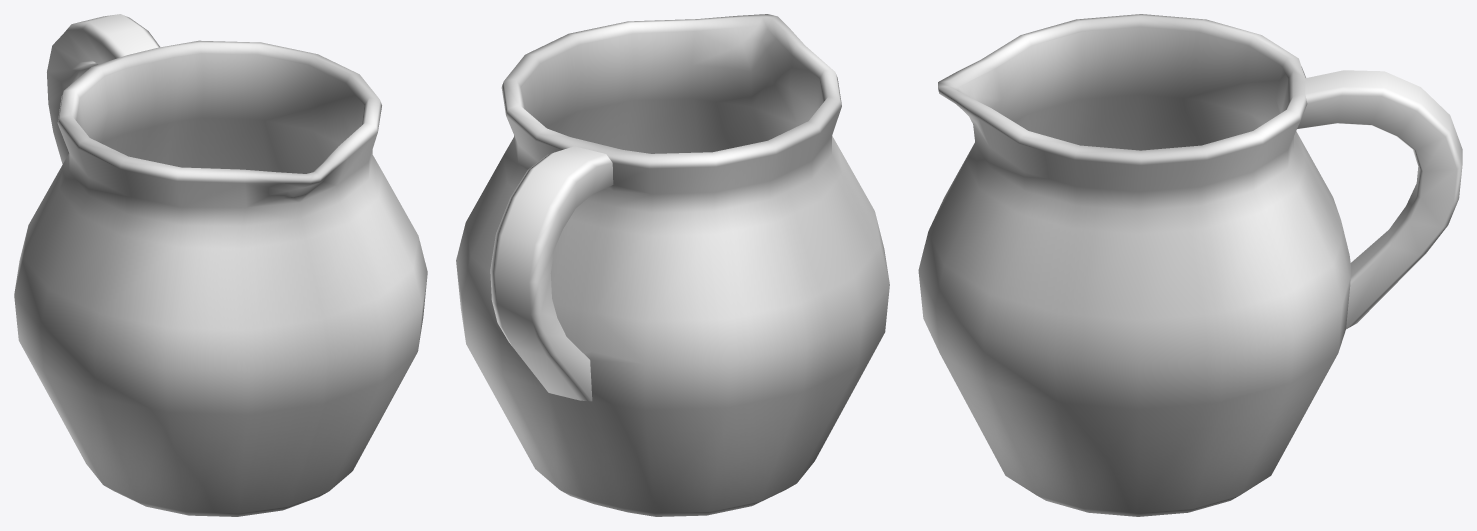
File: Syrup_Container_01.fbx
The picture shows the model from 3 angles, left to right: view 1: azimuth 30°, elevation 25°; view 2: azimuth 150°, elevation 25°; view 3: azimuth 270°, elevation 25°; orthographic projection. The views are drawn at different scales.
Parts seen in each view (by area): view 1: Syrup_Container_01; view 2: Syrup_Container_01; view 3: Syrup_Container_01.
Boxes of the visible parts, box(x1,y1,x2,y2) form: Syrup_Container_01: box(14, 14, 427, 516); Syrup_Container_01: box(456, 14, 889, 516); Syrup_Container_01: box(918, 14, 1462, 516).
Size of the model in its own units: 47.49 by 45.59 by 58.64.
